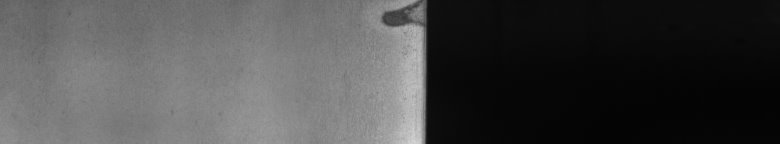hb: (373, 4, 416, 39)
